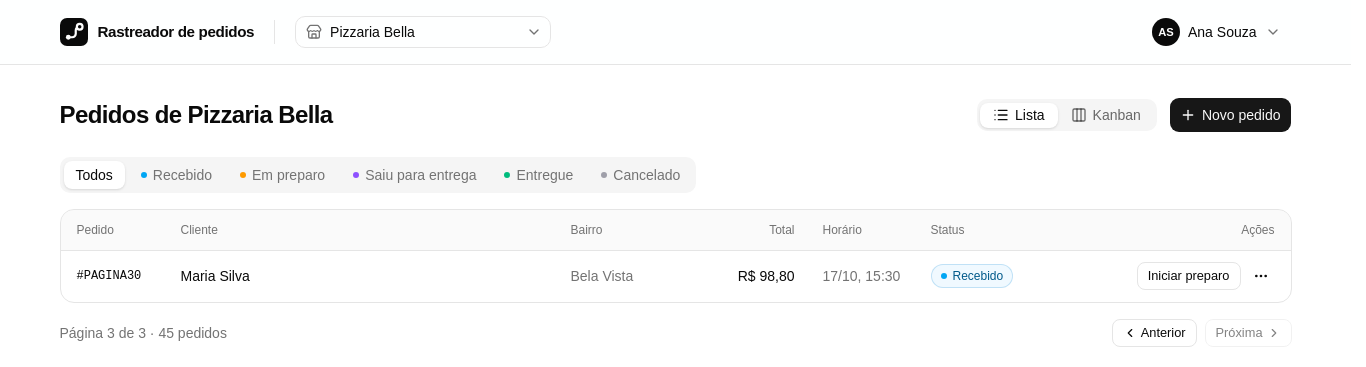
Scenario: order list filters › goes back to the first page when the status or the restaurant changes
Expected: the text "Página 3 de 3 · 45 pedidos" is shown, [60, 323, 227, 343]
Step 1. Click the button "Entregue" → (539, 175), box [492, 161, 585, 189]
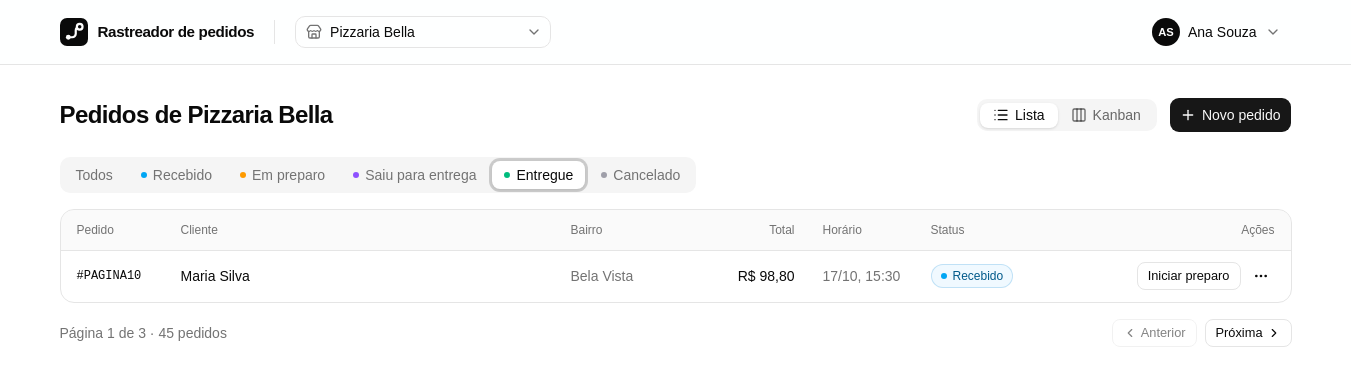
Now the text "Página 1 de 3 · 45 pedidos" is shown, box [60, 323, 227, 343]
Step 2. Click the button "Próxima" → (1248, 333), box [1205, 319, 1292, 347]
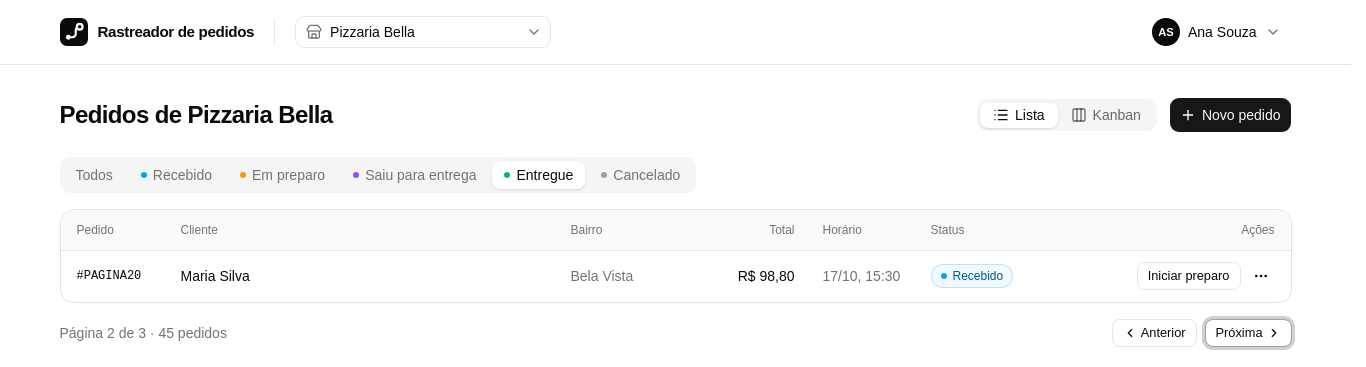
Now the text "Página 2 de 3 · 45 pedidos" is shown, box [60, 323, 227, 343]
Step 3. Click the dropdown named "Restaurante selecionado" → (423, 32), box [295, 16, 551, 48]
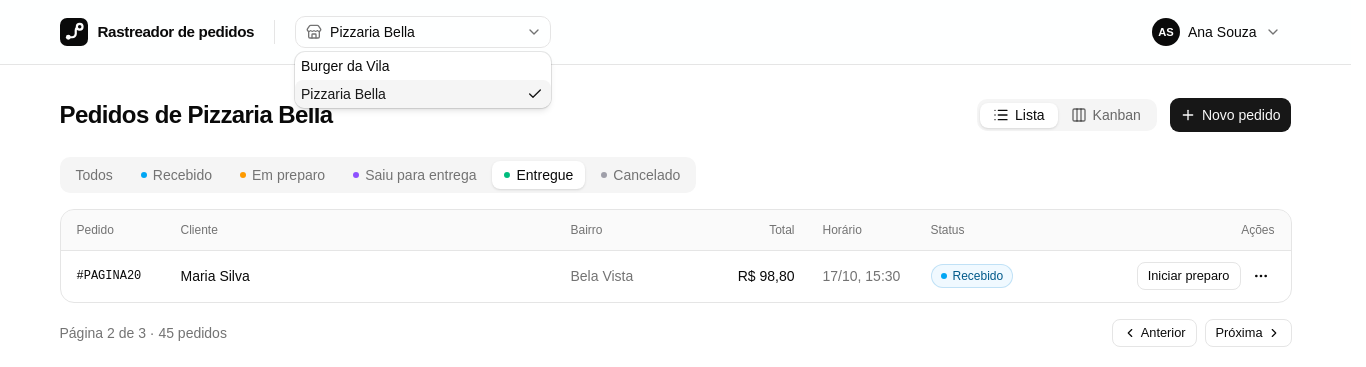
Step 4. Click the option "Burger da Vila" → (345, 66), box [301, 58, 390, 74]
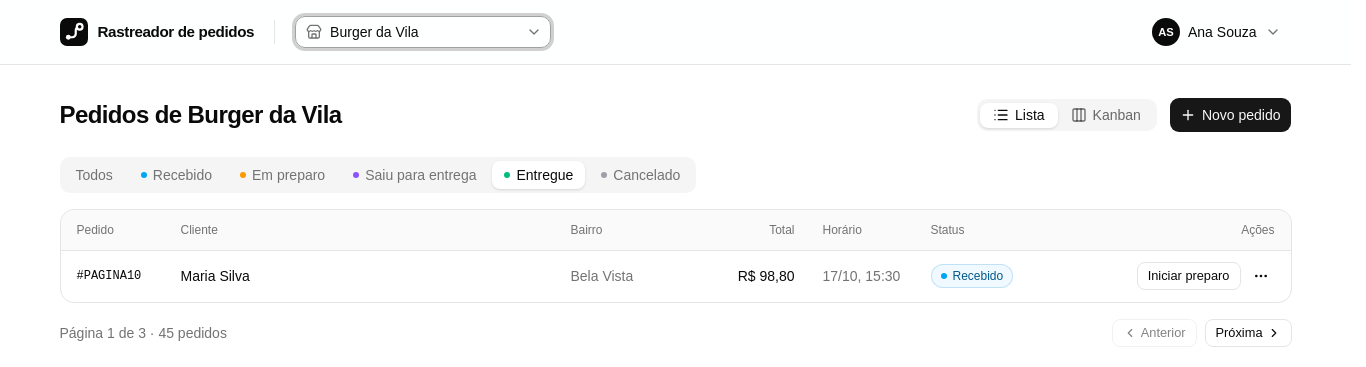
Now the text "Página 1 de 3 · 45 pedidos" is shown, box [60, 323, 227, 343]
